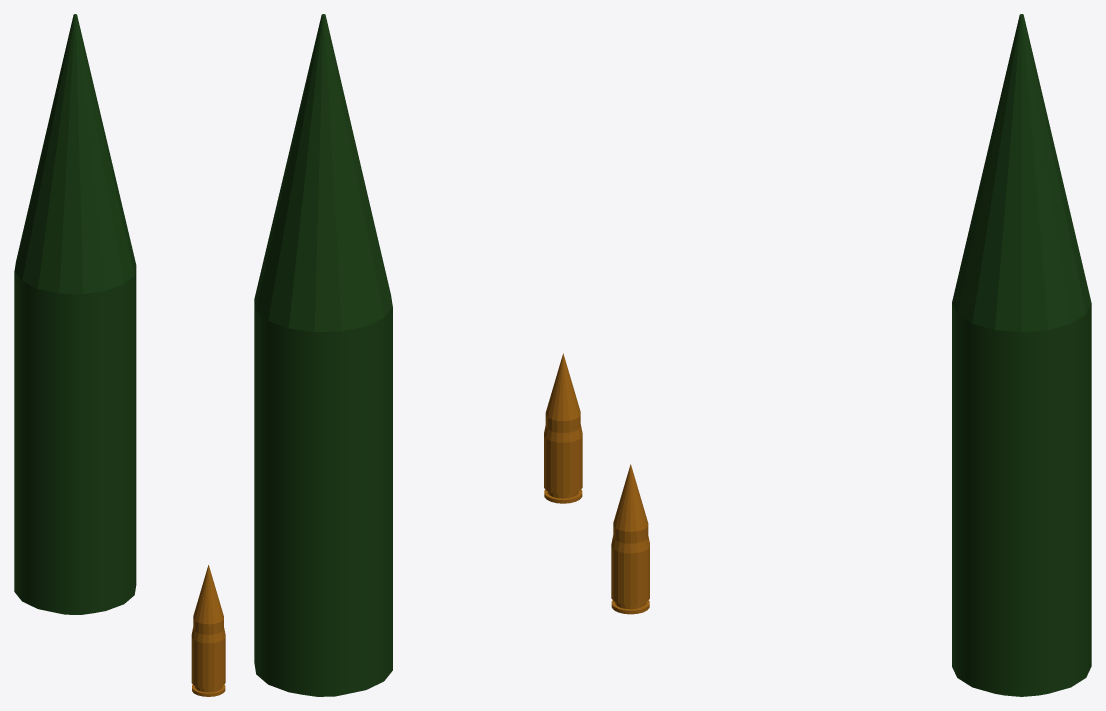
Rendered from MunitionTank01.fbx.
3 renders of one model, left to right at view 1: azimuth 30°, elevation 25°; view 2: azimuth 150°, elevation 25°; view 3: azimuth 270°, elevation 25°, orthographic. The views are drawn at different scales.
Visible parts, largest first — view 1: Cylindre001, Cylindre002; view 2: Cylindre001, Cylindre002; view 3: Cylindre001, Cylindre002.
Part boxes in pixels (x1,y1,x2,y2): Cylindre001: (14,14,136,614); Cylindre002: (191,565,225,696); Cylindre001: (254,14,392,696); Cylindre002: (544,353,582,503); Cylindre001: (952,14,1091,696); Cylindre002: (611,464,649,614).
Bounding box in the file's own units: 4.46 × 23.26 × 15.25.
